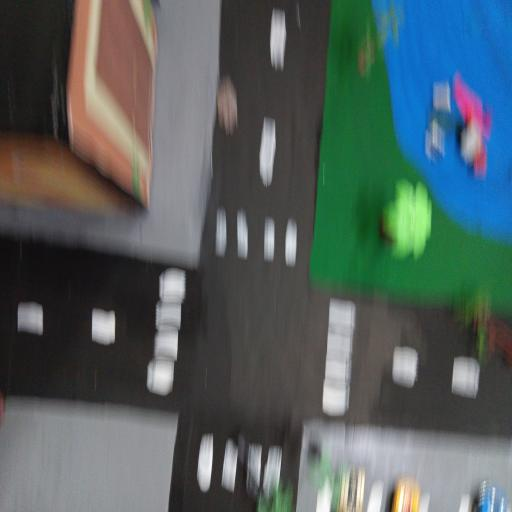fallen trees: (231, 428, 298, 512), (457, 282, 512, 368)
porthole: (217, 75, 243, 133)
trash: (416, 72, 496, 177)
